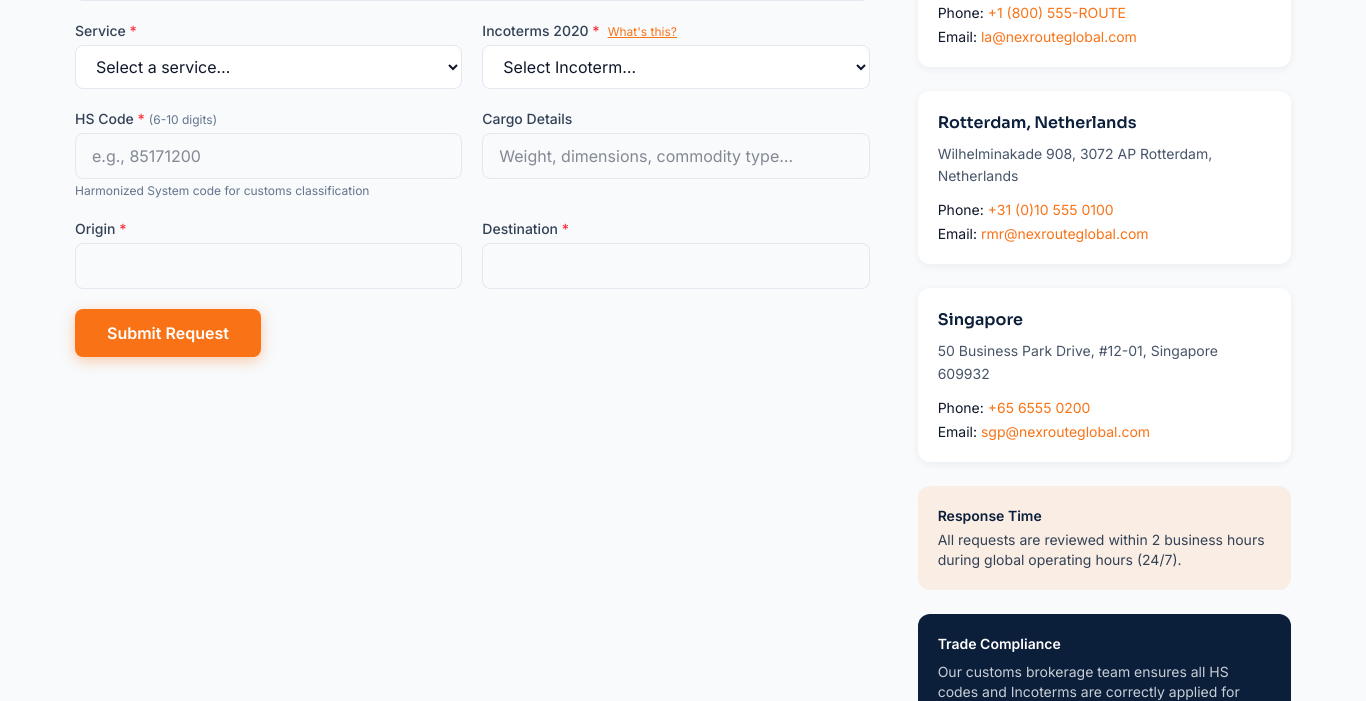
ContactPage › validates required fields
(page scrolled)
Click the button "Submit Request" at (168, 333), box [75,309,261,357]
(page scrolled)
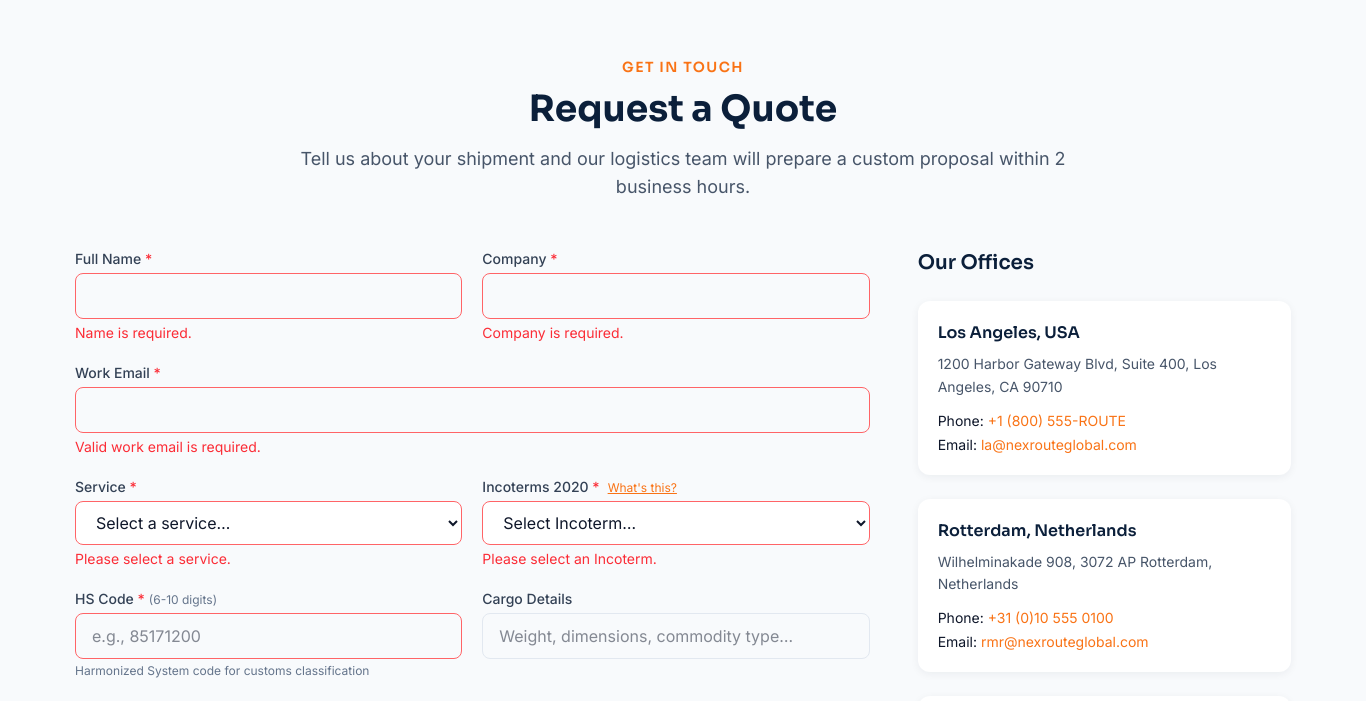
Check: the text "Name is required." is shown, box [75,324,192,341]
Check: the text "Company is required." is shown, box [482,324,624,341]
